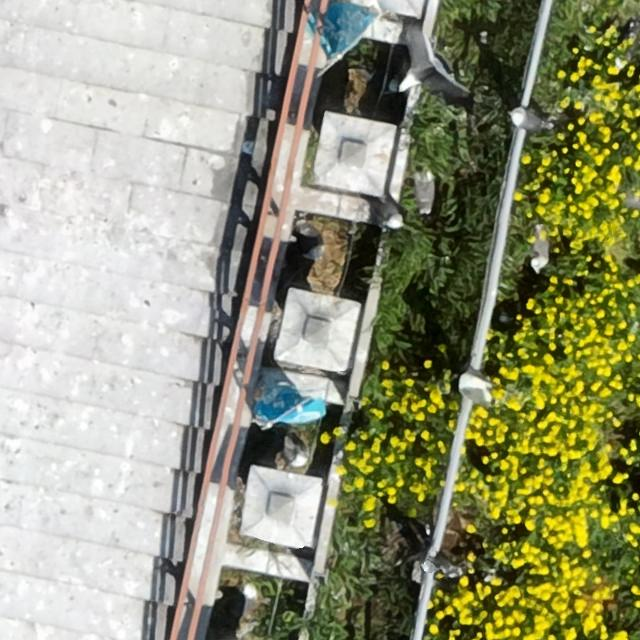F: (394, 28, 466, 98)
umineko: (405, 165, 439, 211), (459, 370, 499, 404), (372, 194, 408, 231), (279, 431, 309, 471), (508, 112, 552, 131), (532, 228, 551, 269), (240, 586, 256, 615)
